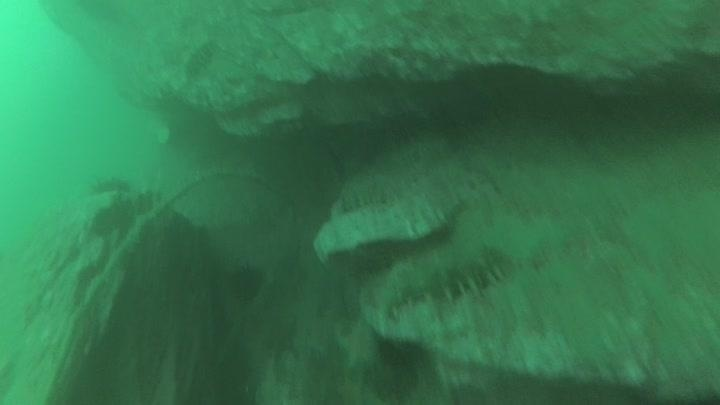echinus: (226, 261, 268, 305), (86, 167, 131, 202)
holothurian: (373, 244, 515, 313), (182, 37, 219, 81)
starfish: (332, 317, 383, 375)
